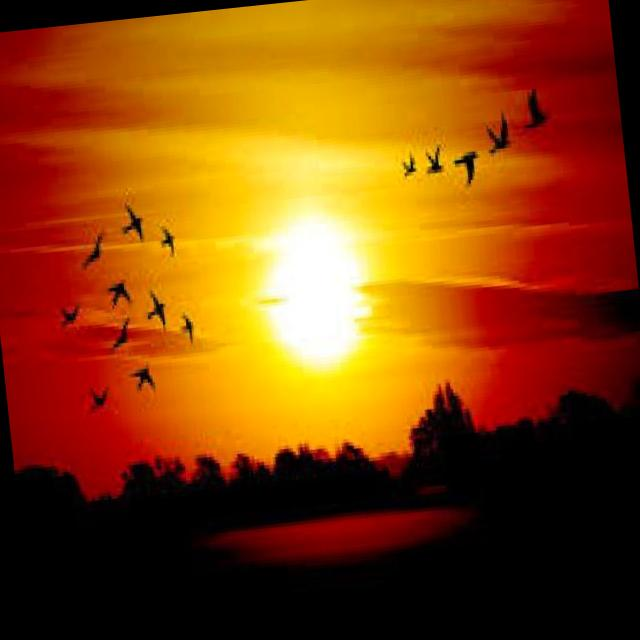bird: (480, 106, 518, 160), (515, 84, 556, 134), (169, 301, 207, 353), (114, 198, 148, 246), (394, 142, 426, 188), (100, 274, 138, 312), (140, 288, 172, 332), (80, 379, 116, 417), (450, 146, 482, 188), (80, 227, 112, 267), (418, 140, 451, 178), (124, 360, 160, 394), (153, 220, 183, 260), (105, 316, 140, 348), (57, 296, 84, 334)
